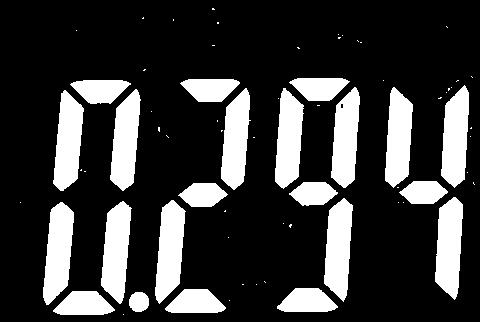0: (37, 73, 144, 319)
2: (155, 71, 254, 317)
4: (381, 82, 476, 304)
9: (272, 72, 363, 318)
dot: (127, 288, 151, 313)
